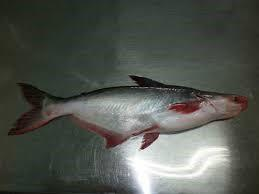Pangasius: (9, 74, 249, 152)
